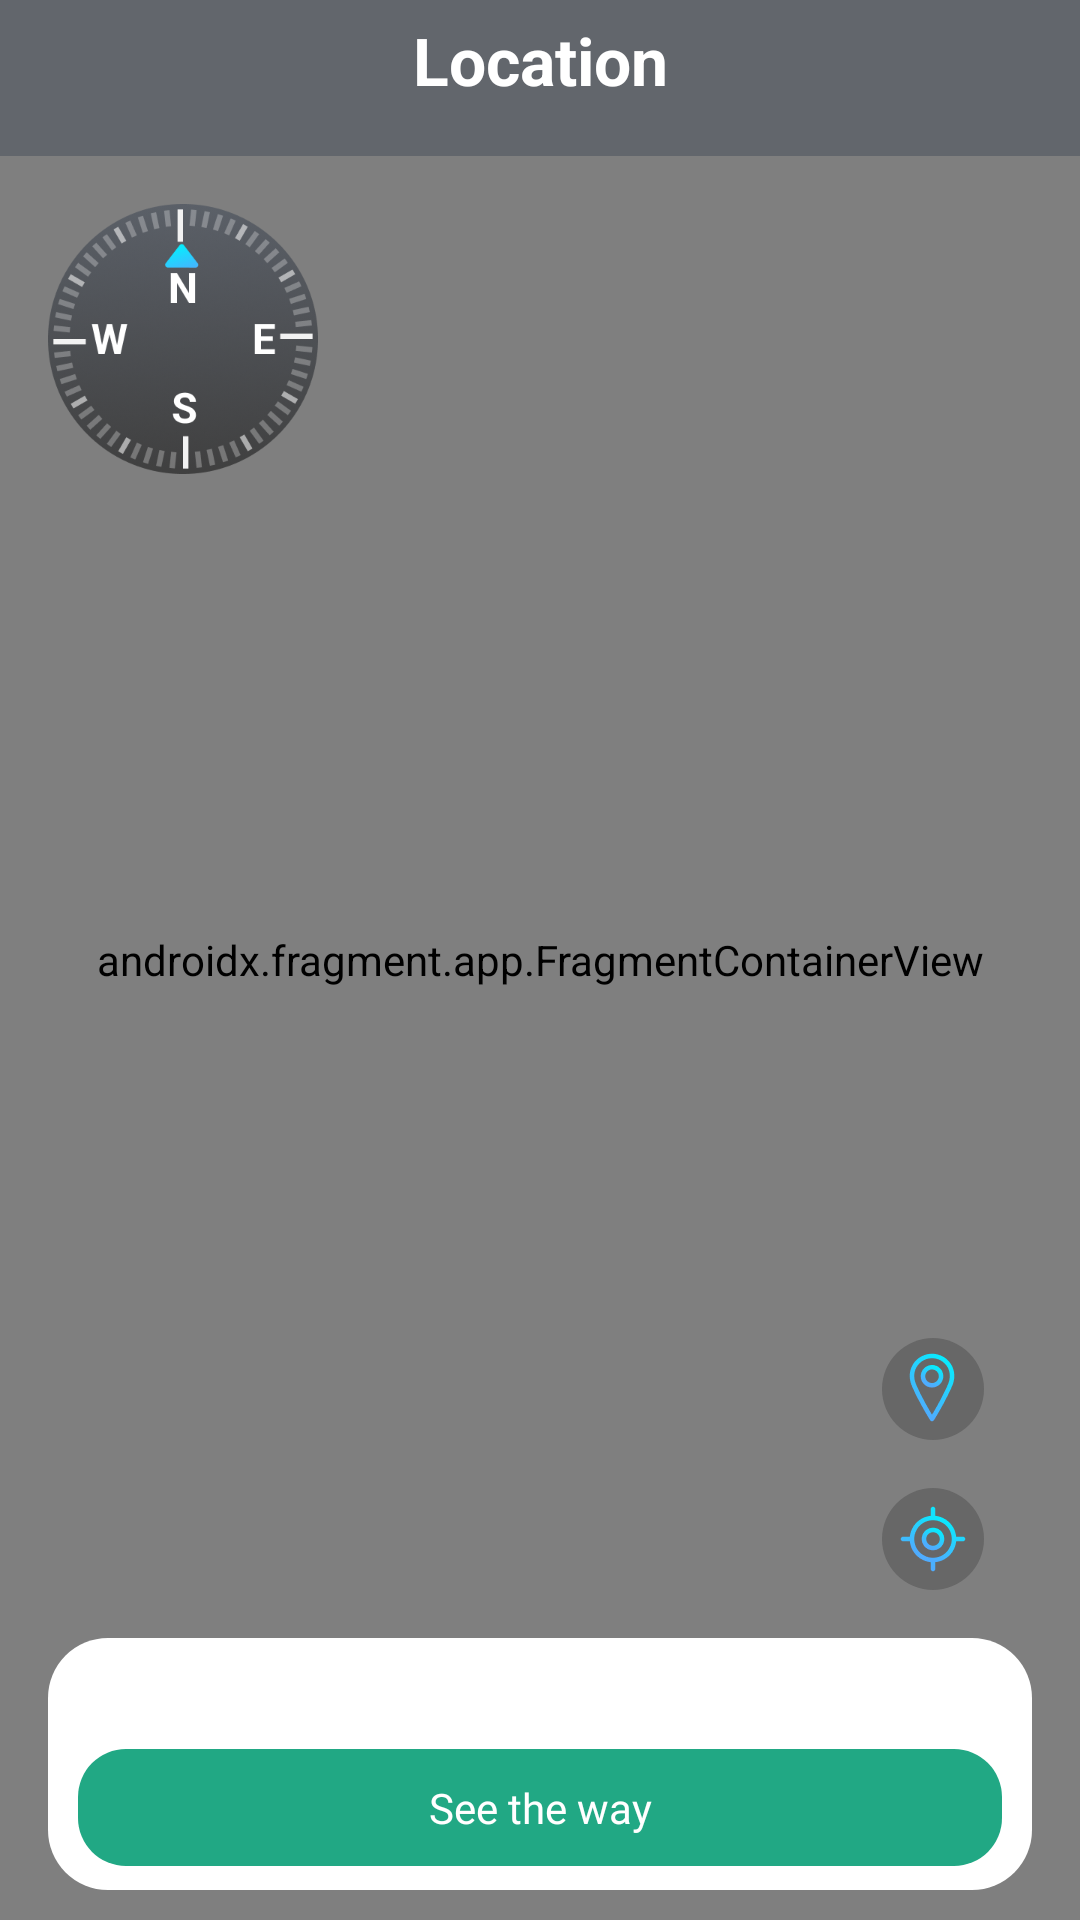

Icon bounding boxes for this 1080x1920 phone screenshot, format Rect(x1, y1, x2, y2):
compass map: Rect(48, 204, 318, 474)
location: Rect(882, 1338, 984, 1440), Rect(882, 1488, 984, 1590)
